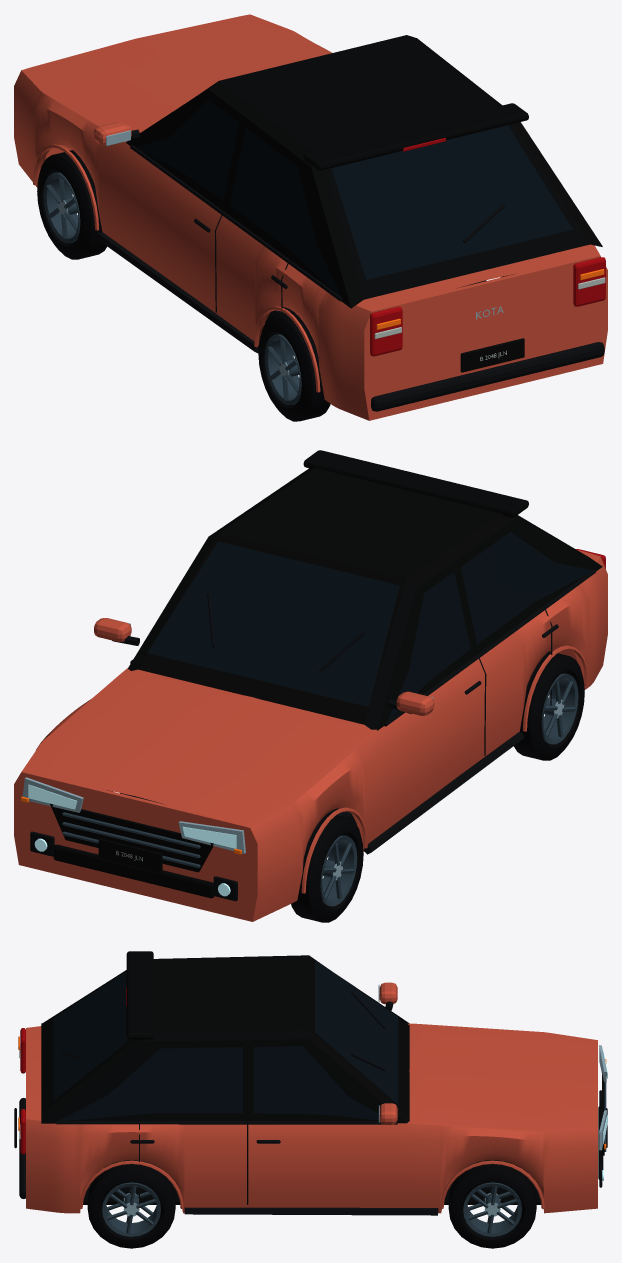
File: city_hatchback_coral.glb
3 views of the same model, one above another, from view 1: azimuth 30°, elevation 25°; view 2: azimuth 150°, elevation 25°; view 3: azimuth 270°, elevation 25° (orthographic). The views are drawn at different scales.
Parts seen in each view (by area): view 1: Body_Mesh, Wheel_RL_Mesh, Wheel_FL_Mesh, TailLights_Mesh; view 2: Body_Mesh, Wheel_FL_Mesh, Wheel_RL_Mesh, Headlights_Mesh; view 3: Body_Mesh, Wheel_FR_Mesh, Wheel_RR_Mesh, TailLights_Mesh, Headlights_Mesh.
Boxes of the visible parts, x1,y1,x2,y2 form: Body_Mesh: (14, 14, 607, 420); Wheel_RL_Mesh: (258, 312, 330, 421); Wheel_FL_Mesh: (37, 150, 106, 259); TailLights_Mesh: (370, 138, 605, 356); Body_Mesh: (14, 450, 607, 921); Wheel_FL_Mesh: (291, 813, 363, 922); Wheel_RL_Mesh: (514, 651, 584, 760); Headlights_Mesh: (22, 777, 245, 896); Body_Mesh: (14, 951, 607, 1215); Wheel_FR_Mesh: (448, 1164, 536, 1248); Wheel_RR_Mesh: (87, 1164, 175, 1248); TailLights_Mesh: (19, 987, 126, 1154); Headlights_Mesh: (599, 1045, 607, 1180).
Bounding box in the file's own units: 2.1 × 1.49 × 3.96.
2 materials, 1 textured.
